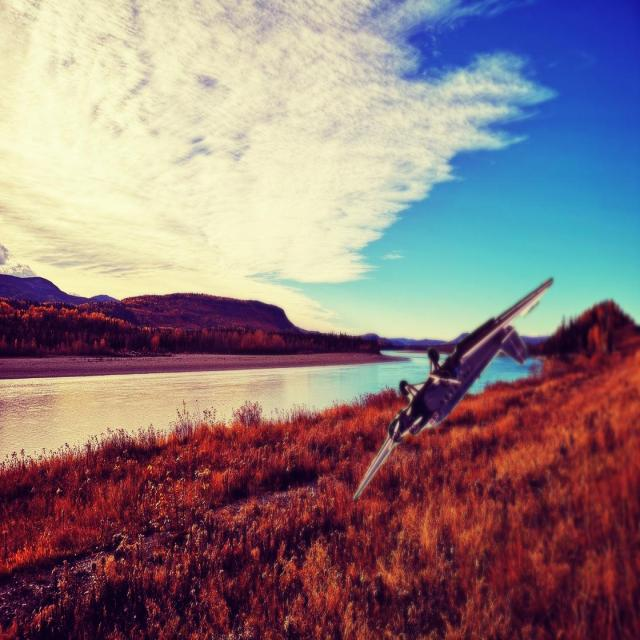airplane: (351, 276, 553, 502)
